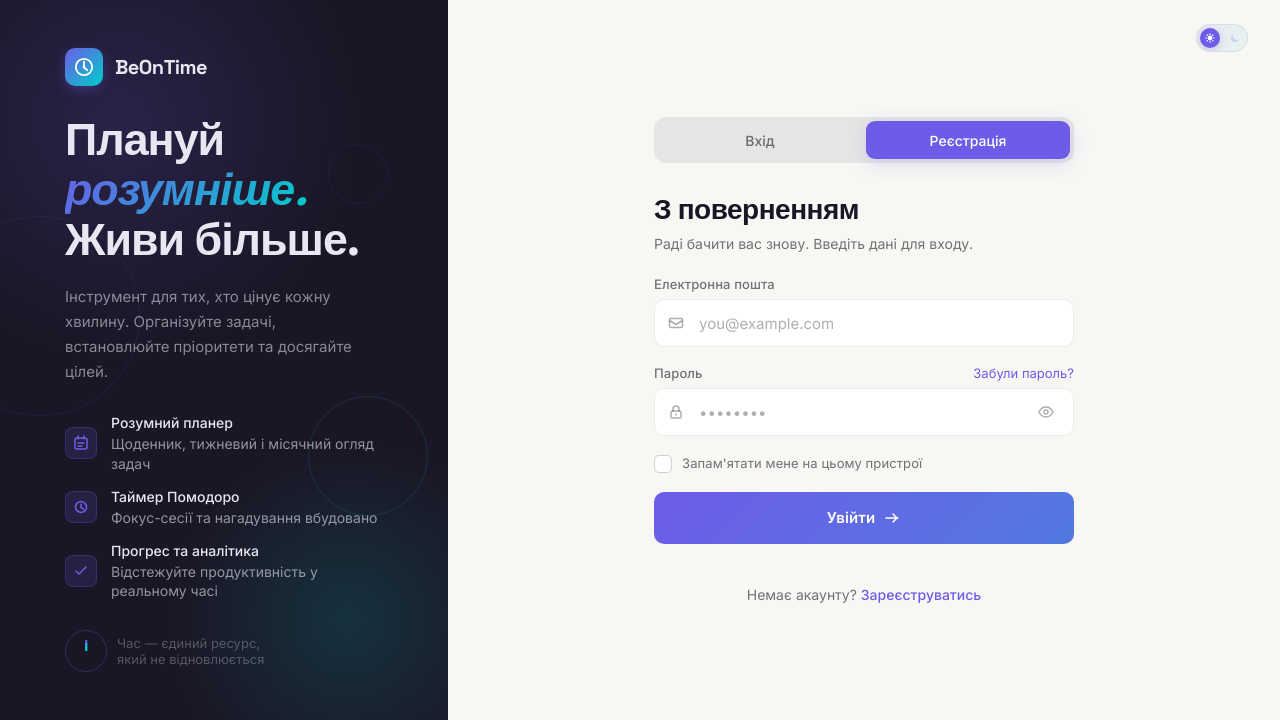
Scenario: LoginPage Component › повинен показувати помилку, якщо відправити порожню форму
Click the button "Увійти".
click(864, 518)  # box 654,492 -> 1074,544
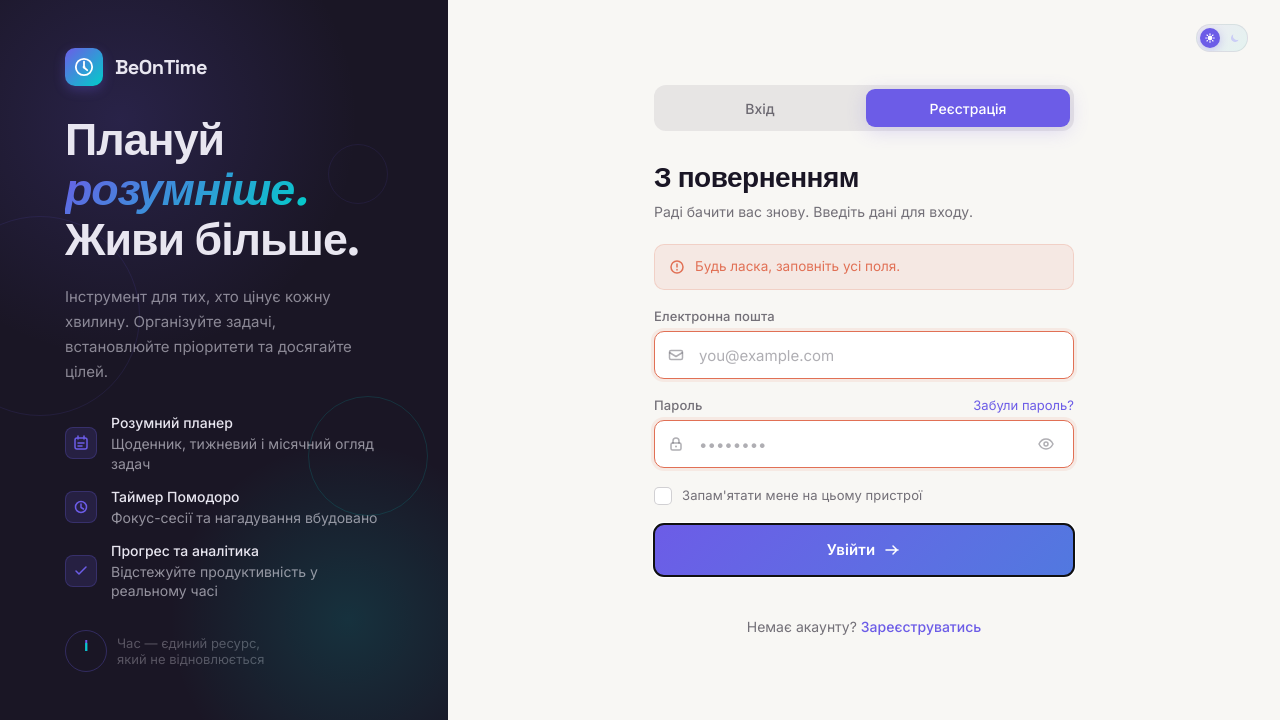
Check: the text "Будь ласка, заповніть усі поля." is shown, box 695,258 -> 900,277
